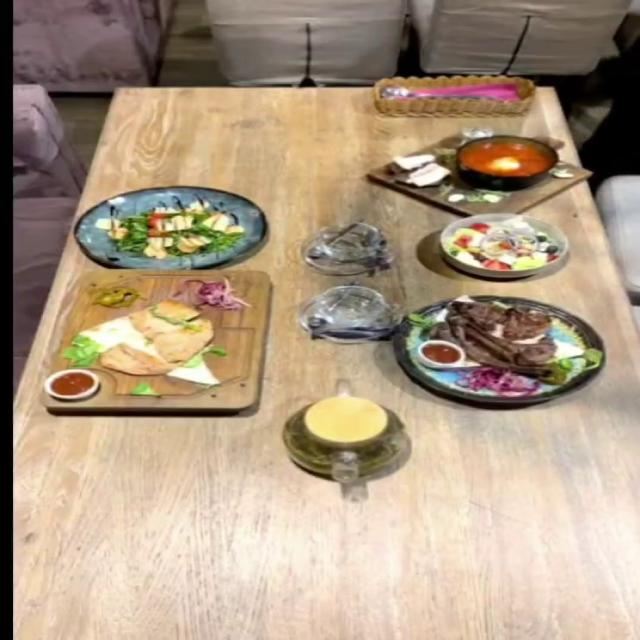meat: (390, 294, 606, 404)
salat: (72, 185, 264, 268), (438, 211, 570, 276)
soup: (364, 130, 592, 218)
tea: (280, 392, 408, 480)
